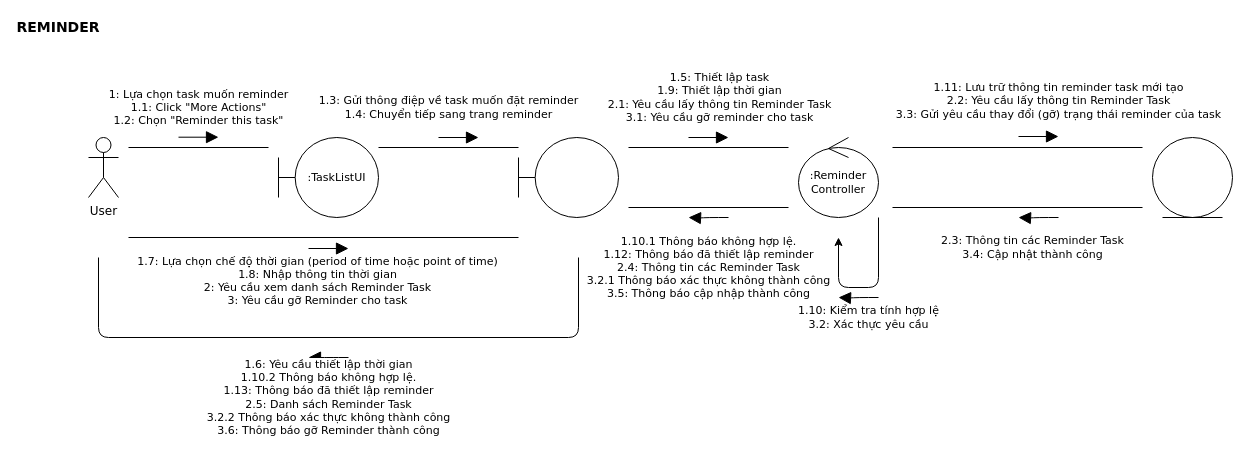
The diagram is 1250 pixels wide and 454 high, and some of its shapes have lost their labels. The box of each missing label's shape, as (x1, y1, x2, y2) in pixels:
:ReminderDB: (1152, 136, 1232, 218)
:ReminderUI: (518, 136, 618, 218)
